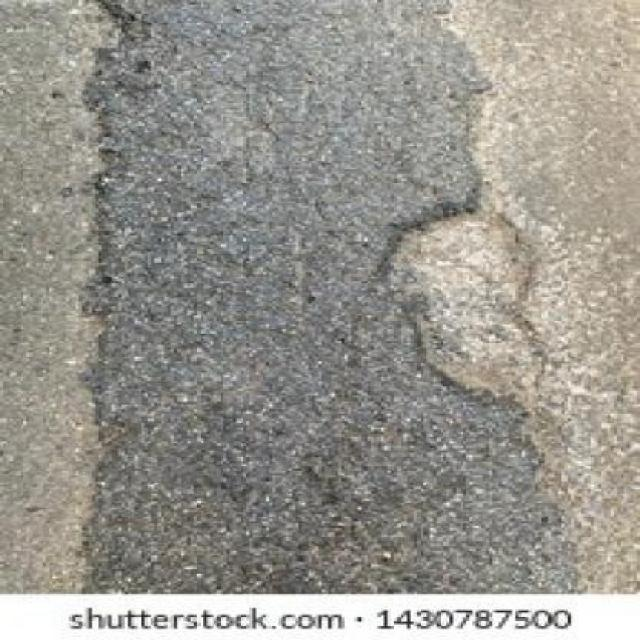Pothole: (370, 197, 552, 405)
